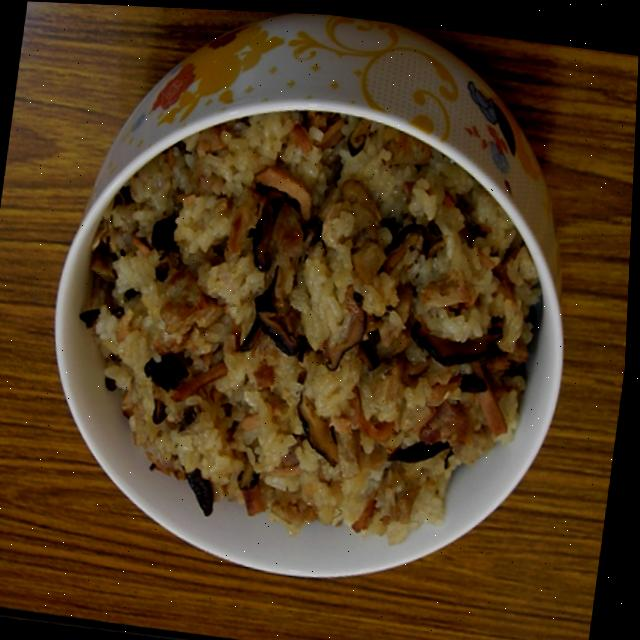米饭主食: (11, 14, 619, 617)
